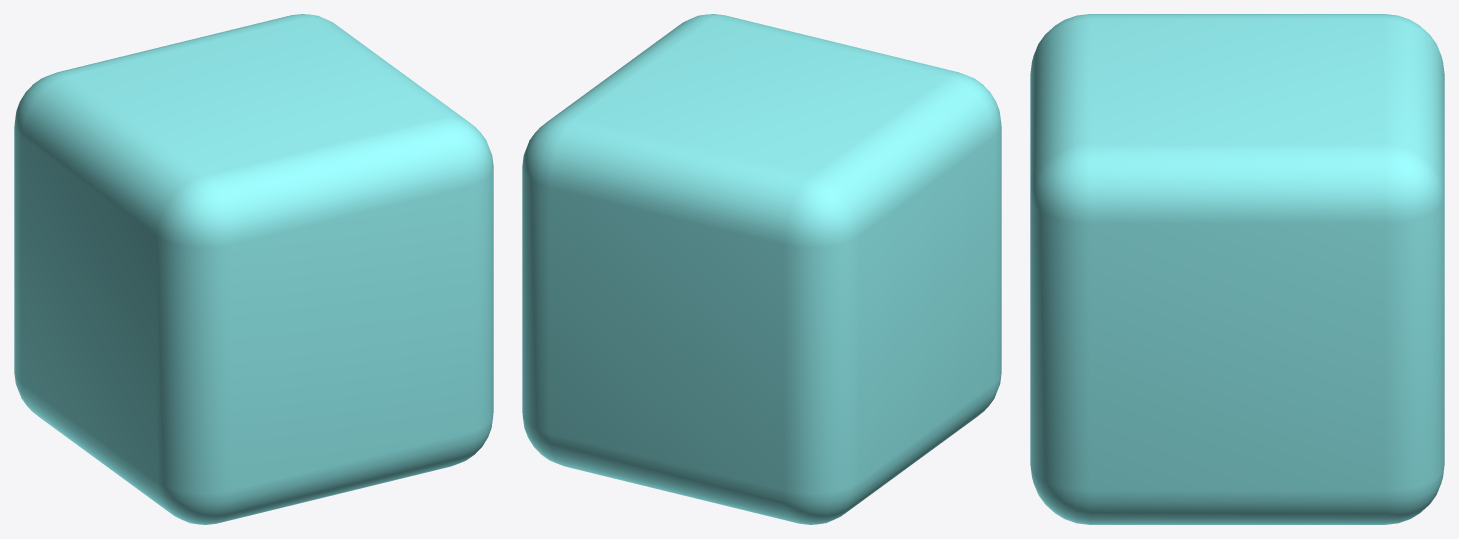
File: kast.fbx
The picture shows the model from 3 angles, left to right: view 1: azimuth 30°, elevation 25°; view 2: azimuth 150°, elevation 25°; view 3: azimuth 270°, elevation 25°; orthographic projection. The views are drawn at different scales.
Visible parts, largest first — view 1: Cube; view 2: Cube; view 3: Cube.
Part boxes in pixels (bbox=[...]): Cube: bbox=[14, 14, 493, 524]; Cube: bbox=[522, 14, 1001, 524]; Cube: bbox=[1030, 14, 1444, 524].
Bounding box in the file's own units: 200 × 200 × 200.
